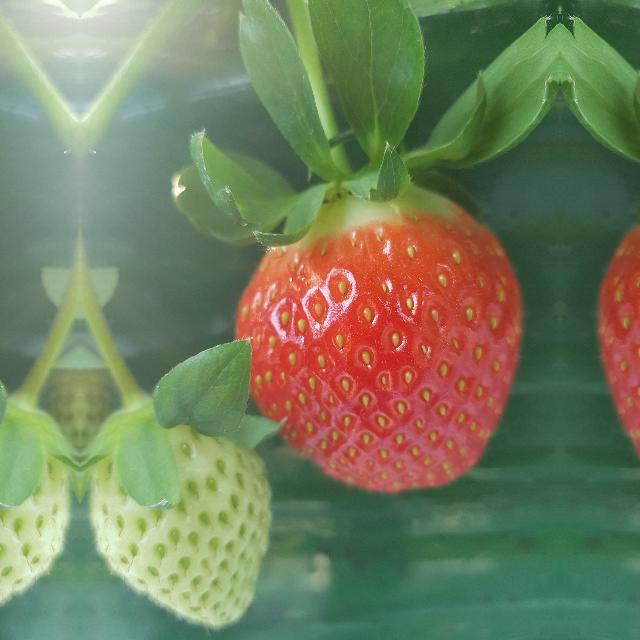Health_100: (233, 182, 523, 494)
Health_25: (90, 392, 276, 628), (0, 392, 70, 627)
